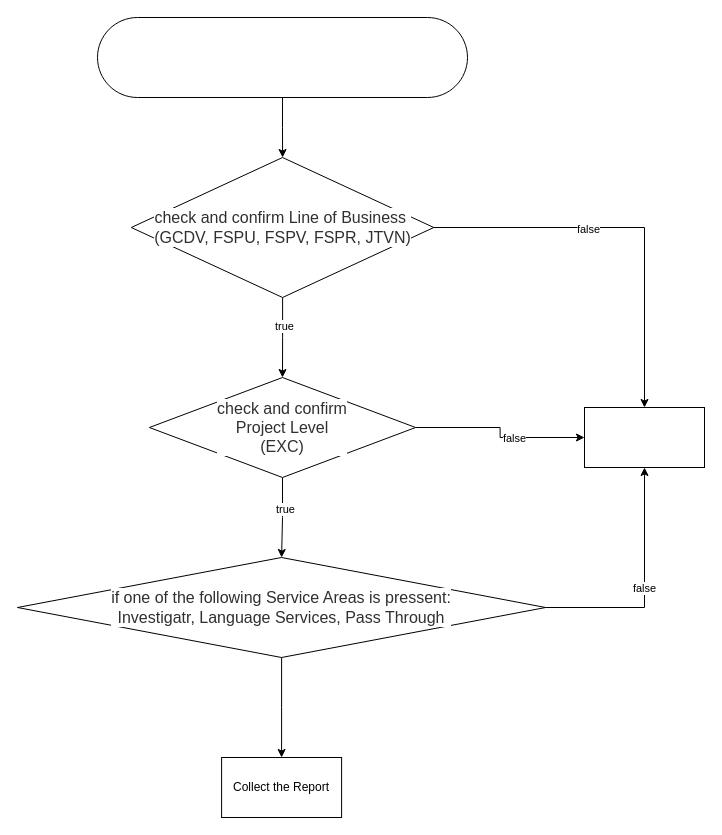
Image size: 722x835. Some labels were removed from this diagram. The shapes that lost their labels are listed below. From the top down, each one's centre as x and y in pixels, then its label:
the point at 282,57: Select BC in search box
the point at 644,437: close the process
